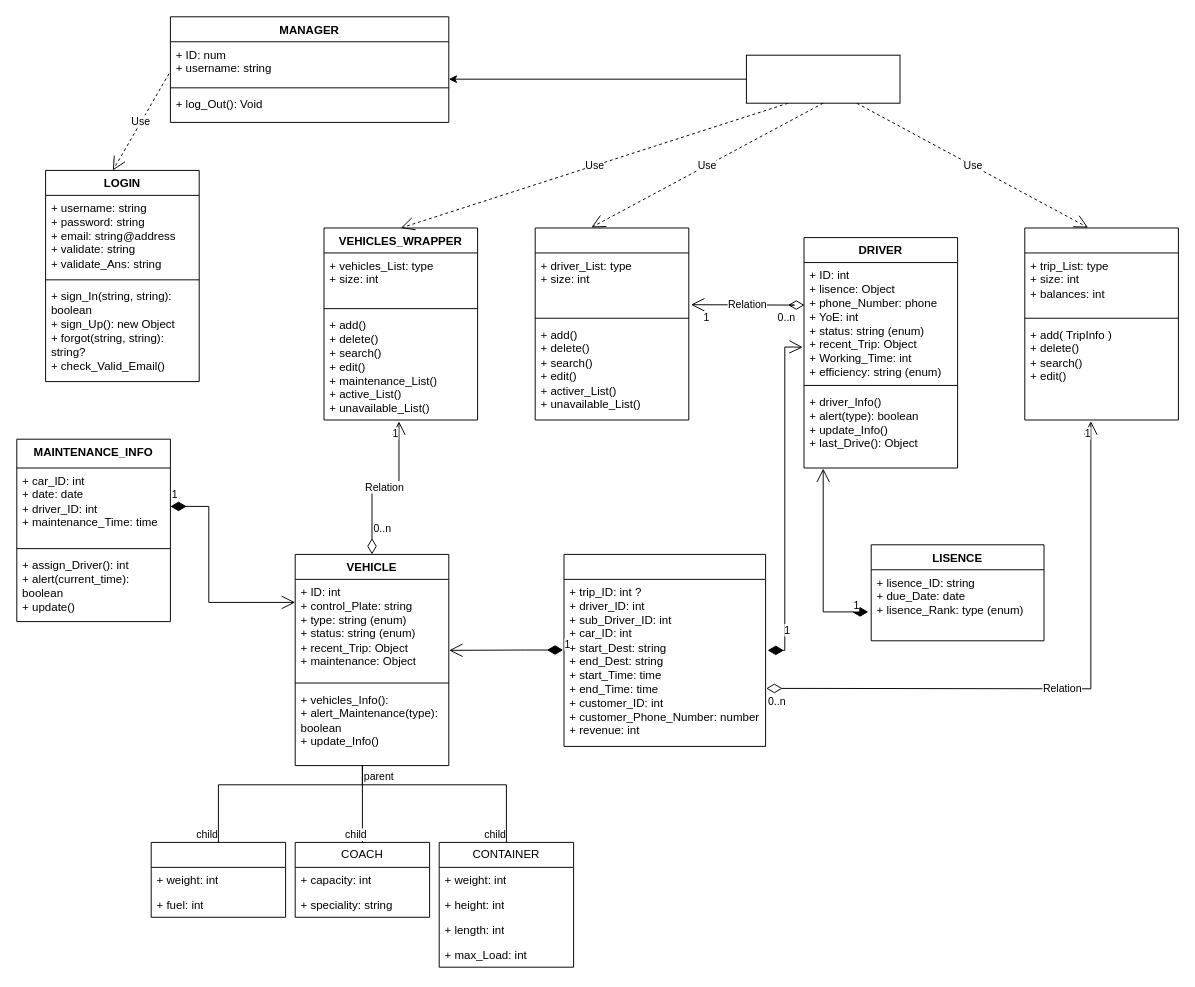
The diagram is 1195 pixels wide and 987 high, and some of its shapes have lost their labels. The box of each missing label's shape, as (x1, y1, x2, y2) in pixels:
DRIVERS_WRAPPER: (534, 227, 689, 420)
TRIP_INFO: (563, 553, 766, 746)
TRIP_SCHEDULE: (1024, 227, 1178, 420)
TRUCK: (150, 841, 286, 917)
«interface» Webpage Interface: (745, 54, 900, 103)
